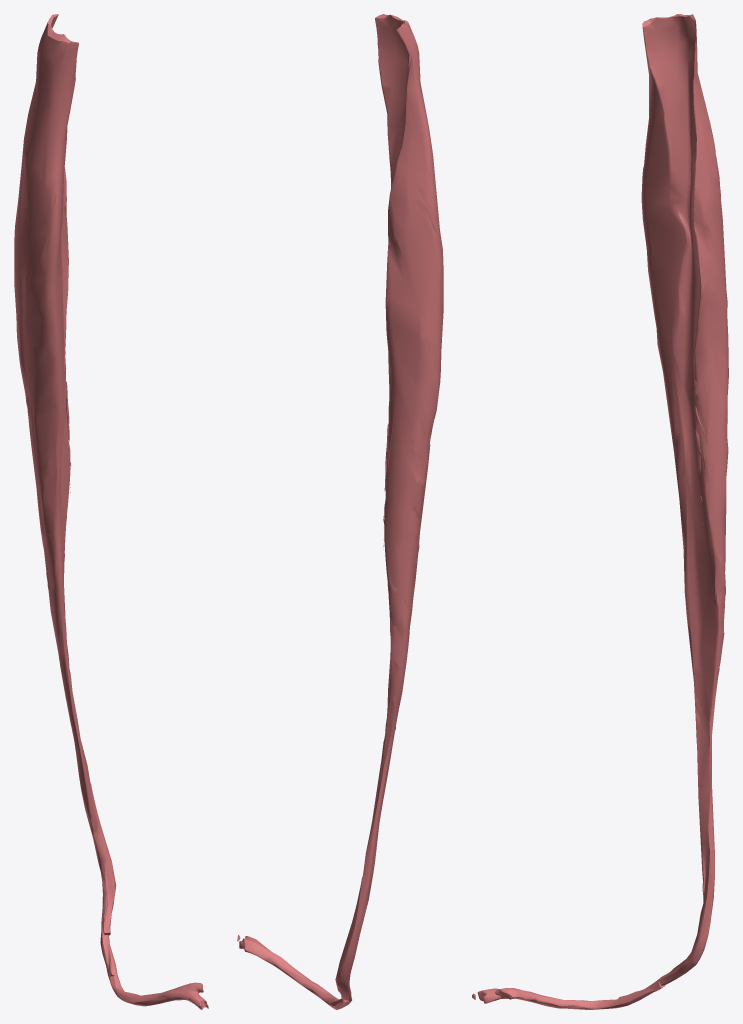
3 views of the same model, side by side, from view 1: azimuth 30°, elevation 25°; view 2: azimuth 210°, elevation 25°; view 3: azimuth 270°, elevation 25° (orthographic). The views are drawn at different scales.
Parts seen in each view (by area): view 1: FJ1410; view 2: FJ1410; view 3: FJ1410.
Part boxes in pixels (x1=…): FJ1410: x1=14, y1=14, x2=208, y2=1009; FJ1410: x1=237, y1=14, x2=443, y2=1009; FJ1410: x1=472, y1=14, x2=728, y2=1009.
Size of the model in its own units: 0.0438 by 0.4024 by 0.0952.
